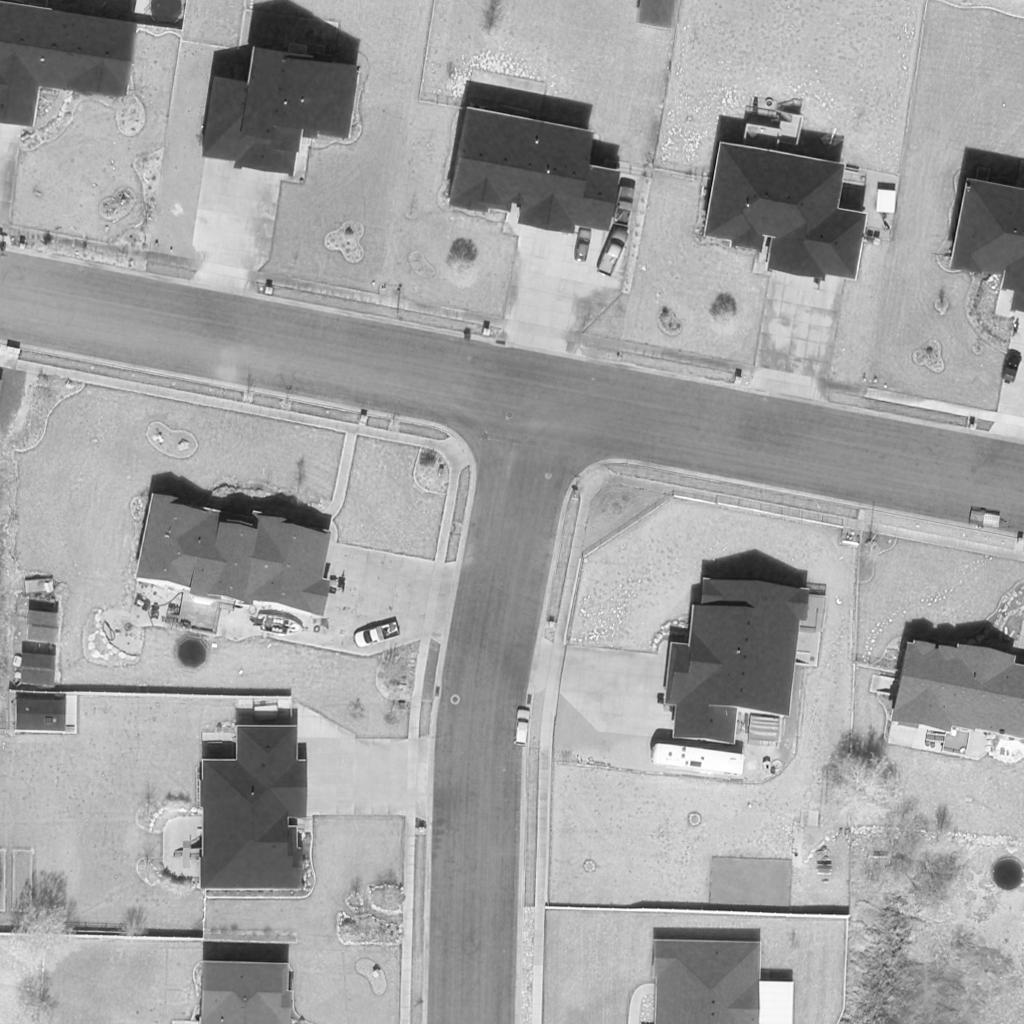vehicle: (649, 743, 741, 777), (595, 226, 629, 278), (353, 621, 405, 649), (259, 612, 305, 642), (615, 186, 635, 226), (1004, 350, 1022, 386), (572, 231, 592, 263), (515, 709, 529, 747)
